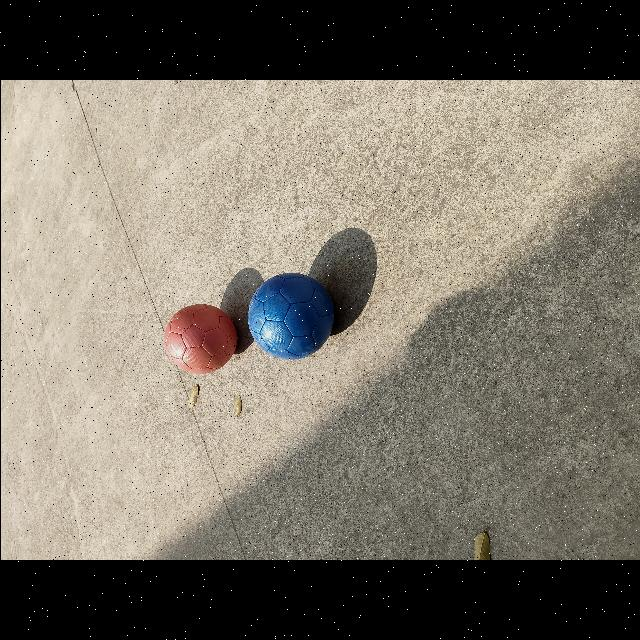B: (247, 272, 336, 361)
R: (163, 303, 243, 375)
